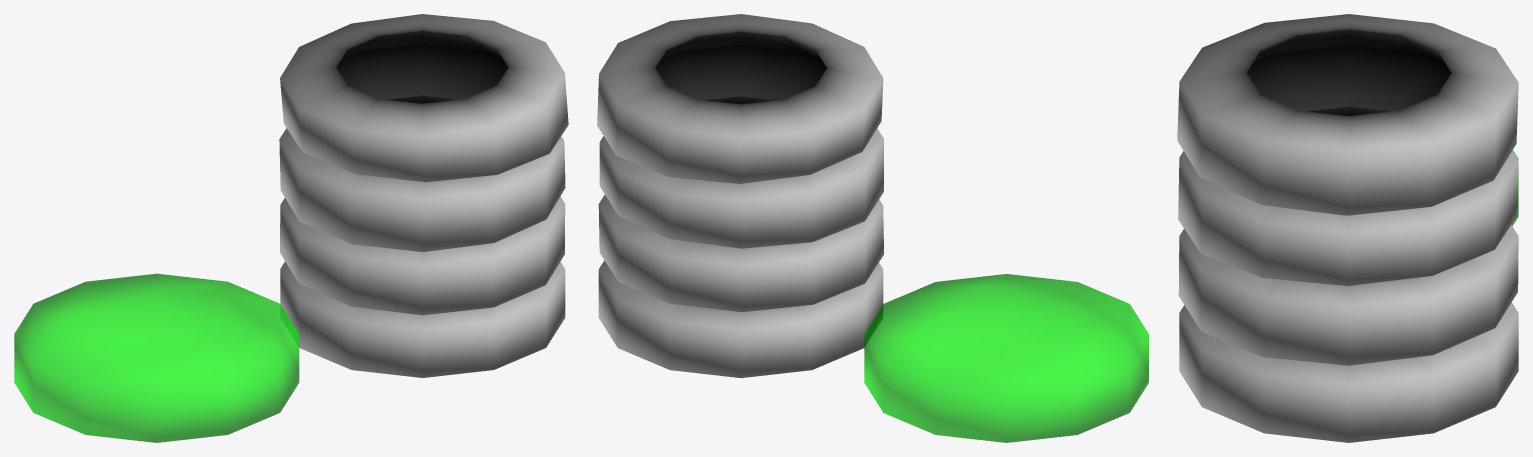
Rendered from destruct_tyrestack.fbx.
The picture shows the model from 3 angles, left to right: view 1: azimuth 30°, elevation 25°; view 2: azimuth 150°, elevation 25°; view 3: azimuth 270°, elevation 25°; orthographic projection. The views are drawn at different scales.
Parts seen in each view (by area): view 1: destruct_tyreCOL, destruct_tyre4, destruct_tyre3, destruct_tyre2, destruct_tyre1; view 2: destruct_tyreCOL, destruct_tyre4, destruct_tyre3, destruct_tyre1, destruct_tyre2; view 3: destruct_tyre4, destruct_tyre2, destruct_tyre1, destruct_tyre3.
Boxes of the visible parts, x1,y1,x2,y2 form: destruct_tyreCOL: (14,273,299,442); destruct_tyre4: (280,14,568,182); destruct_tyre3: (279,95,565,251); destruct_tyre2: (280,196,565,315); destruct_tyre1: (280,261,565,377); destruct_tyreCOL: (864,274,1148,442); destruct_tyre4: (597,14,883,183); destruct_tyre3: (599,96,883,248); destruct_tyre1: (598,260,883,377); destruct_tyre2: (598,194,883,312); destruct_tyre4: (1177,14,1518,215); destruct_tyre2: (1178,225,1518,365); destruct_tyre1: (1179,302,1518,442); destruct_tyre3: (1178,106,1518,285).
Size of the model in its own units: 1.25 by 0.6 by 0.604.
